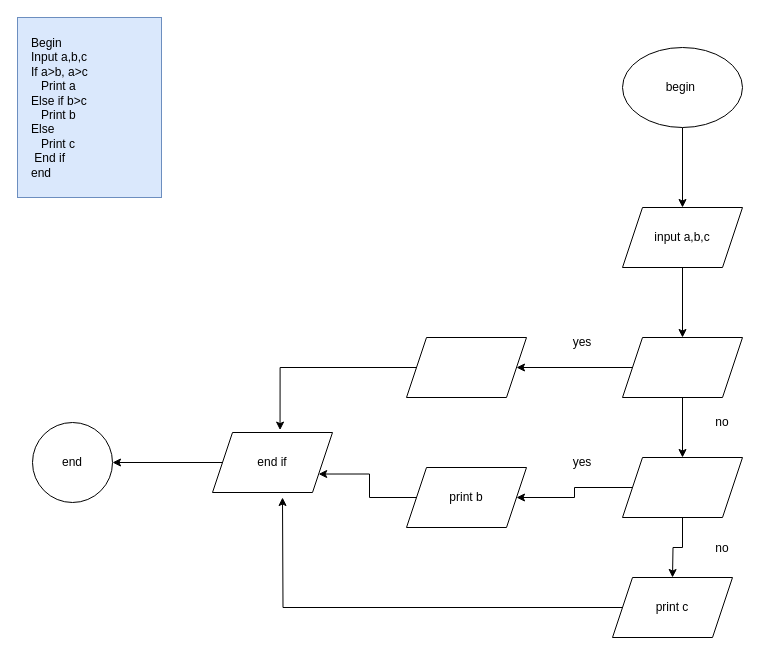
Some shapes in this 770 by 655 pixel diagram are drawn without their labels. The shapes that lost their labels are listed below. From the top down, each one's centre as x and y in pixels, then its label:
At [466,367]: "print a".
At [682,367]: "if a..b, a>c".
At [682,487]: "else if b>c".
